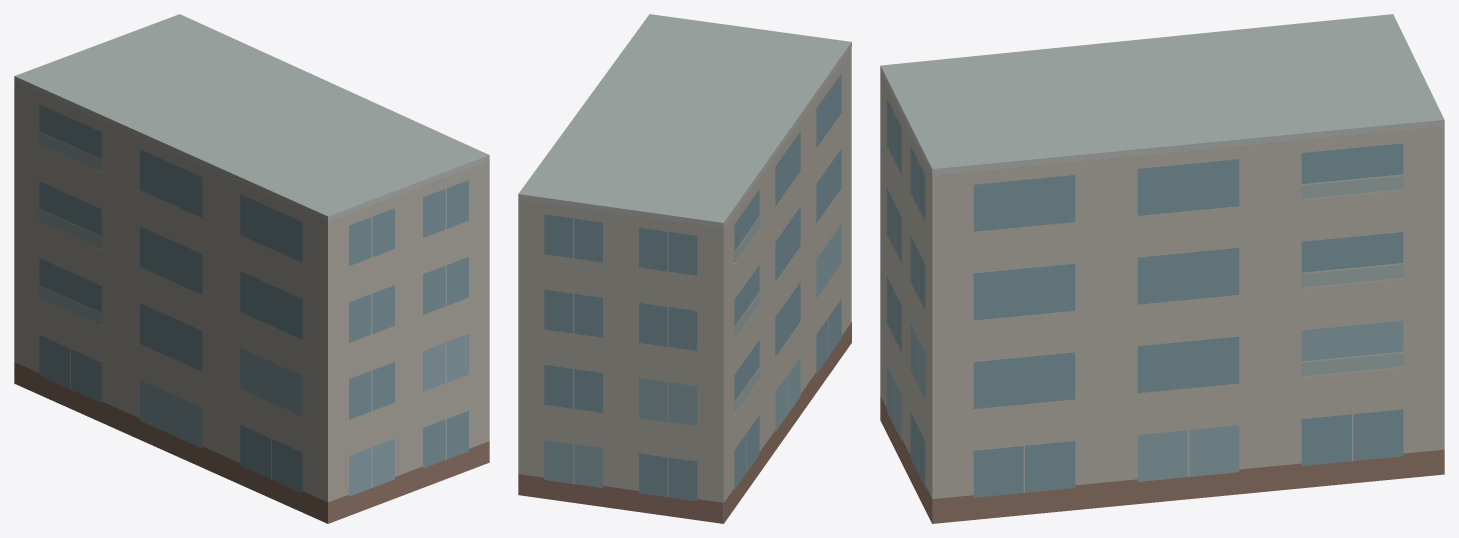
File: survey-upis-32640683.glb
3 renders of one model, left to right at view 1: azimuth 30°, elevation 25°; view 2: azimuth 150°, elevation 25°; view 3: azimuth 270°, elevation 25°, orthographic. The views are drawn at different scales.
Visible parts, largest first — view 1: survey-upis-32640683.tmp; view 2: survey-upis-32640683.tmp; view 3: survey-upis-32640683.tmp.
Part boxes in pixels (x1,y1,x2,y2): survey-upis-32640683.tmp: [14, 14, 489, 523]; survey-upis-32640683.tmp: [518, 14, 851, 523]; survey-upis-32640683.tmp: [880, 14, 1444, 523].
Bounding box in the file's own units: 12.58 × 13.4 × 19.32.
